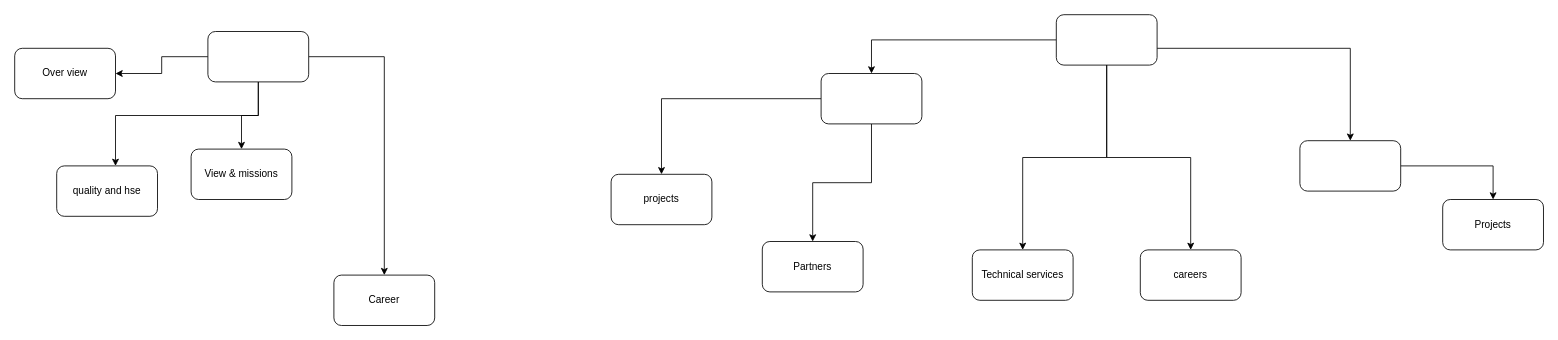
Image size: 1558x340. Some labels were removed from this diagram. Here are the shapes that lost their labels. From the top down, the centre of each, then its label:
At (x=258, y=56): "Company".
At (x=1106, y=39): "Services".
At (x=871, y=98): "Industrial services".
At (x=1350, y=165): "commercial services".
